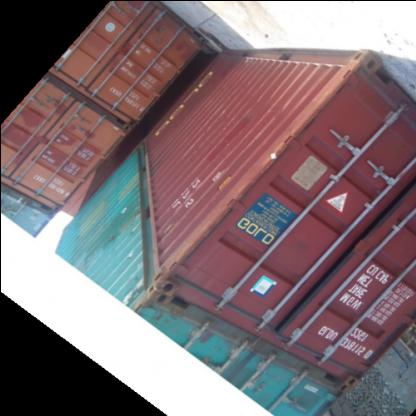Damage: (143, 264, 179, 298)
